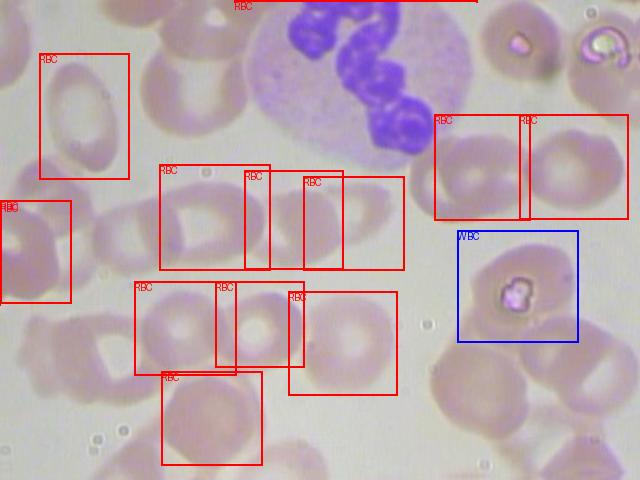RBC: (159, 164, 270, 270), (519, 114, 628, 219), (39, 53, 129, 179), (288, 291, 397, 395), (434, 114, 530, 220), (244, 170, 343, 269), (134, 281, 236, 375), (303, 176, 404, 270), (161, 371, 262, 465), (215, 281, 304, 367), (0, 200, 71, 303)
WBC: (457, 230, 578, 342)
